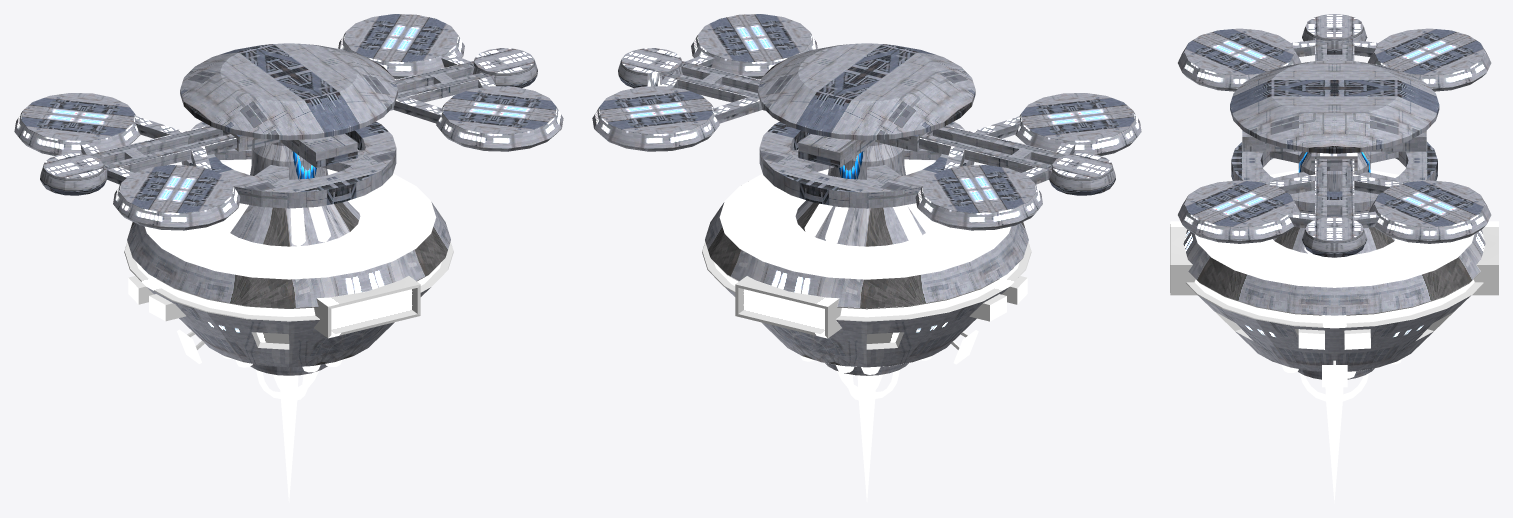
File: Fed_Outpost.fbx
3 views of the same model, side by side, from view 1: azimuth 30°, elevation 25°; view 2: azimuth 150°, elevation 25°; view 3: azimuth 270°, elevation 25° (orthographic). The views are drawn at different scales.
Parts seen in each view (by area): view 1: Fed_Outpost; view 2: Fed_Outpost; view 3: Fed_Outpost.
Part boxes in pixels (x1,y1,x2,y2): Fed_Outpost: (14,14,563,502); Fed_Outpost: (592,14,1141,501); Fed_Outpost: (1170,14,1498,503).
Size of the model in its own units: 723 by 609 by 436.
1 material, 1 textured.
